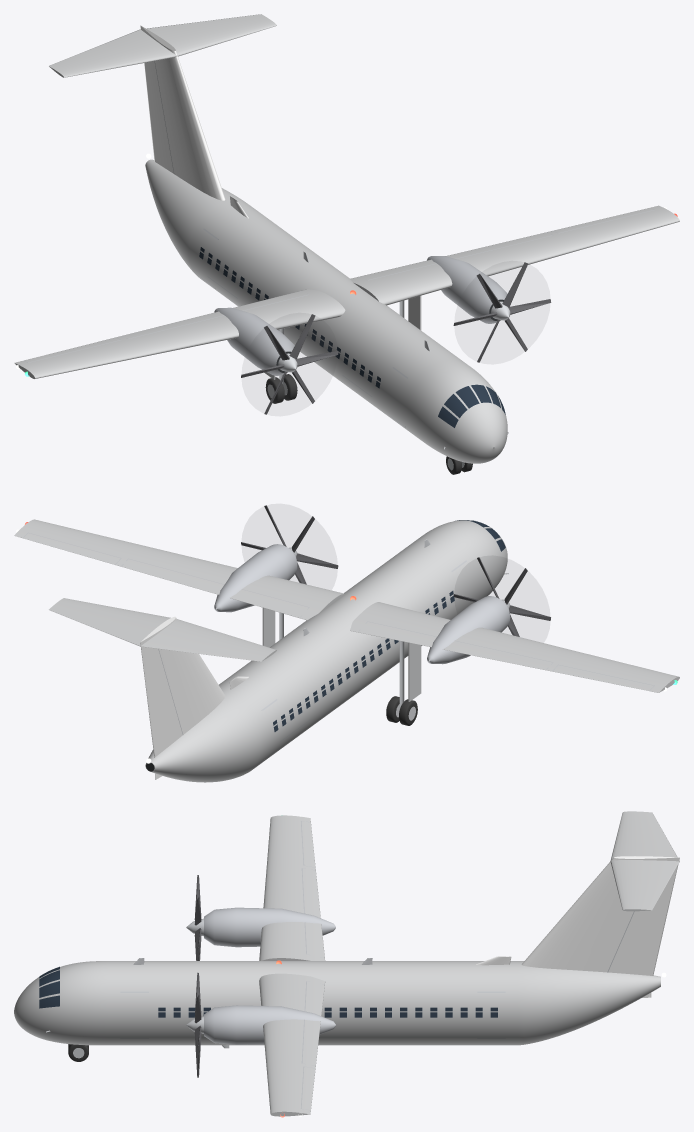
3 renders of one model, top to bottom at view 1: azimuth 30°, elevation 25°; view 2: azimuth 150°, elevation 25°; view 3: azimuth 270°, elevation 25°, orthographic. The views are drawn at different scales.
Visible parts, largest first — view 1: airframe, prop (×2), gear; view 2: airframe, gear, prop (×2); view 3: airframe, prop.
Boxes of the visible parts, <box> form: airframe: <box>14,14,679,463</box>; prop (×2): <box>241,262,551,414</box>; gear: <box>264,295,472,474</box>; airframe: <box>14,519,679,782</box>; gear: <box>262,608,421,725</box>; prop (×2): <box>241,505,550,636</box>; airframe: <box>14,811,679,1117</box>; prop: <box>194,972,201,1077</box>.
Bounding box in the file's own units: 24.88 × 7.78 × 23.36.
